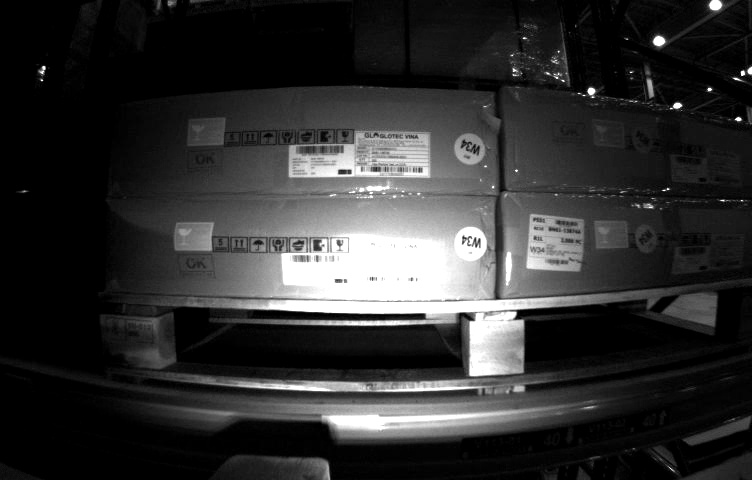True Barcode: (528, 211, 584, 274)
